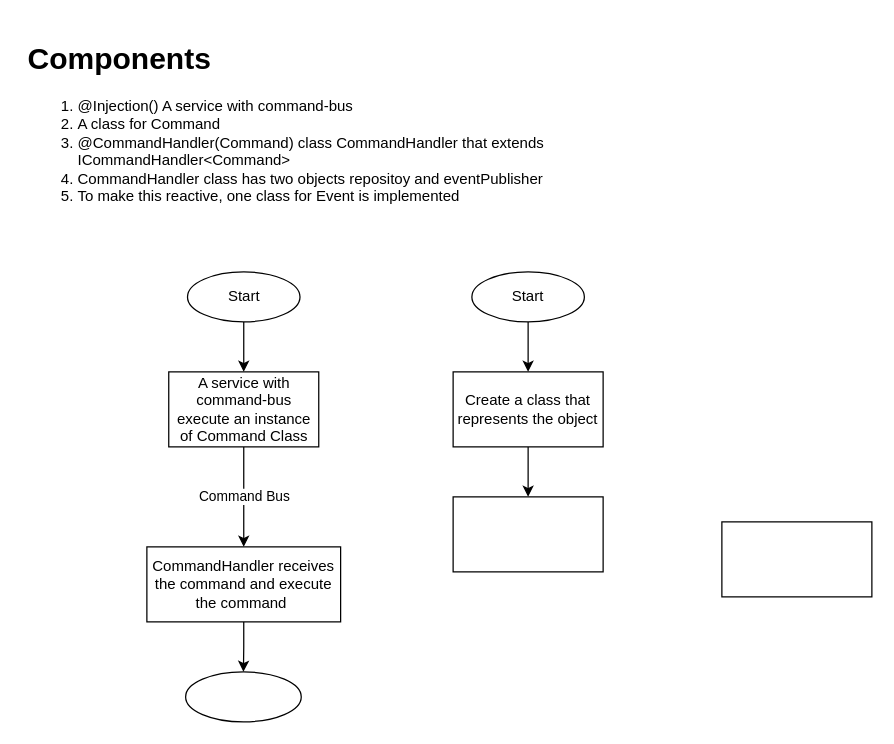
This 894x744 diagram has some shape labels left out. The centre of each missing label's shape, as x and y in pixels:
"End" goes at point (242, 696).
"Using publisher mergeObjectContext, repository logic is executed" goes at point (796, 559).
